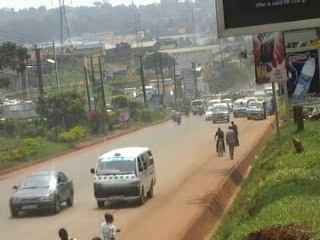Car: (8, 168, 74, 221), (204, 105, 213, 120)
Motorcycle: (182, 103, 190, 120), (174, 109, 181, 125), (169, 105, 174, 121)
